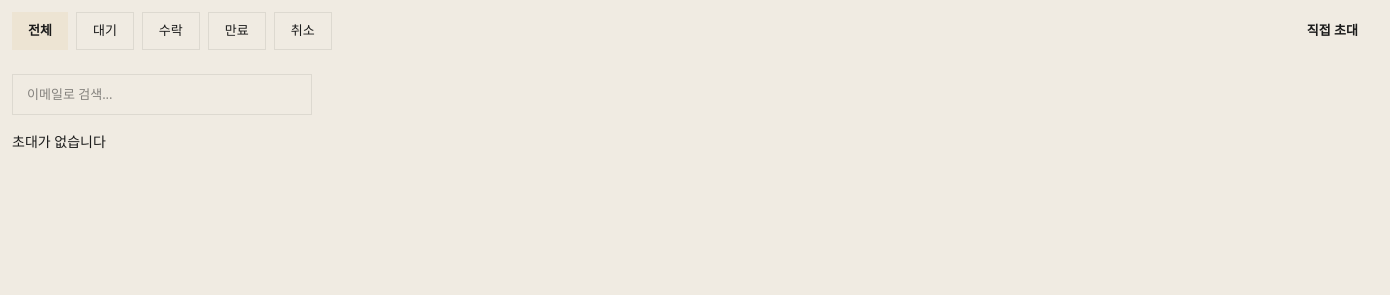
Test: InviteList › clicking "직접 초대" shows create form
This screenshot has width=1390, height=295.
Expected: the field with placeholder "name@company.com" is not shown
Click the button "직접 초대" at [1332, 31], box [1287,13,1378,48]
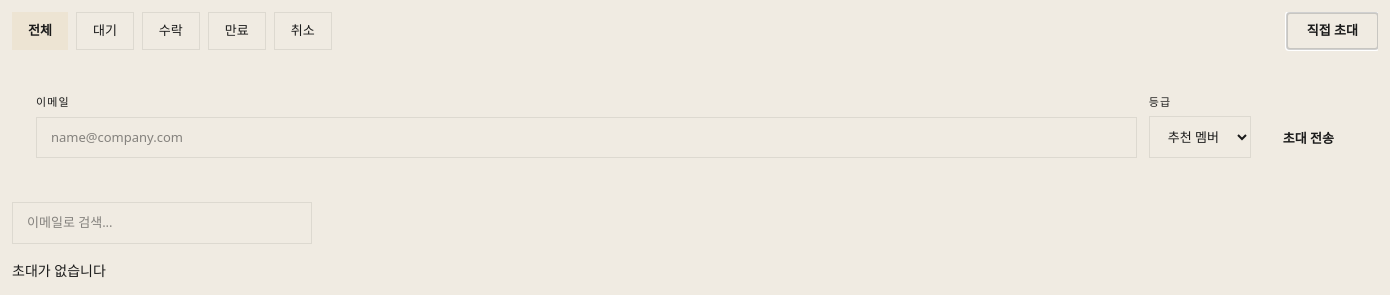
Now the field with placeholder "name@company.com" is shown, box [36,116,1137,158]
